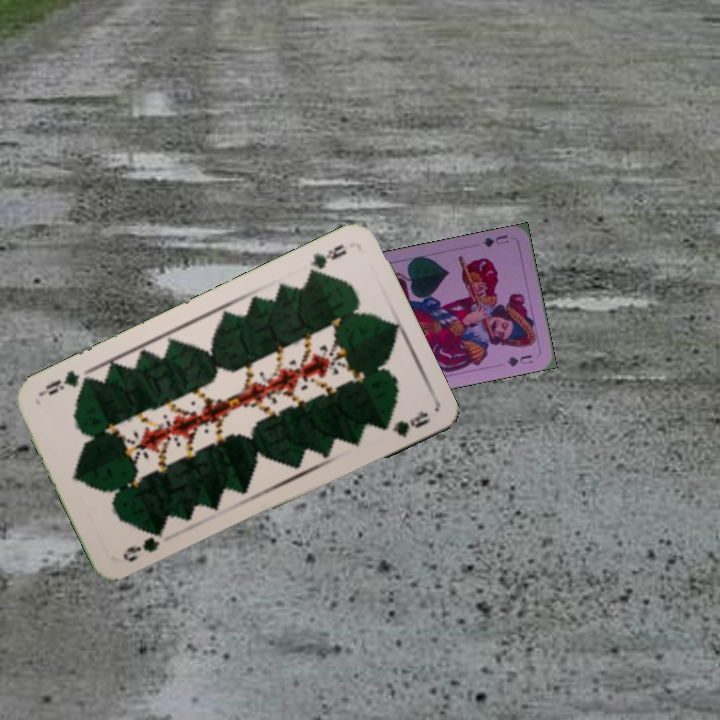G9: (118, 526, 167, 565), (303, 240, 349, 280)
GU: (478, 231, 511, 250)
